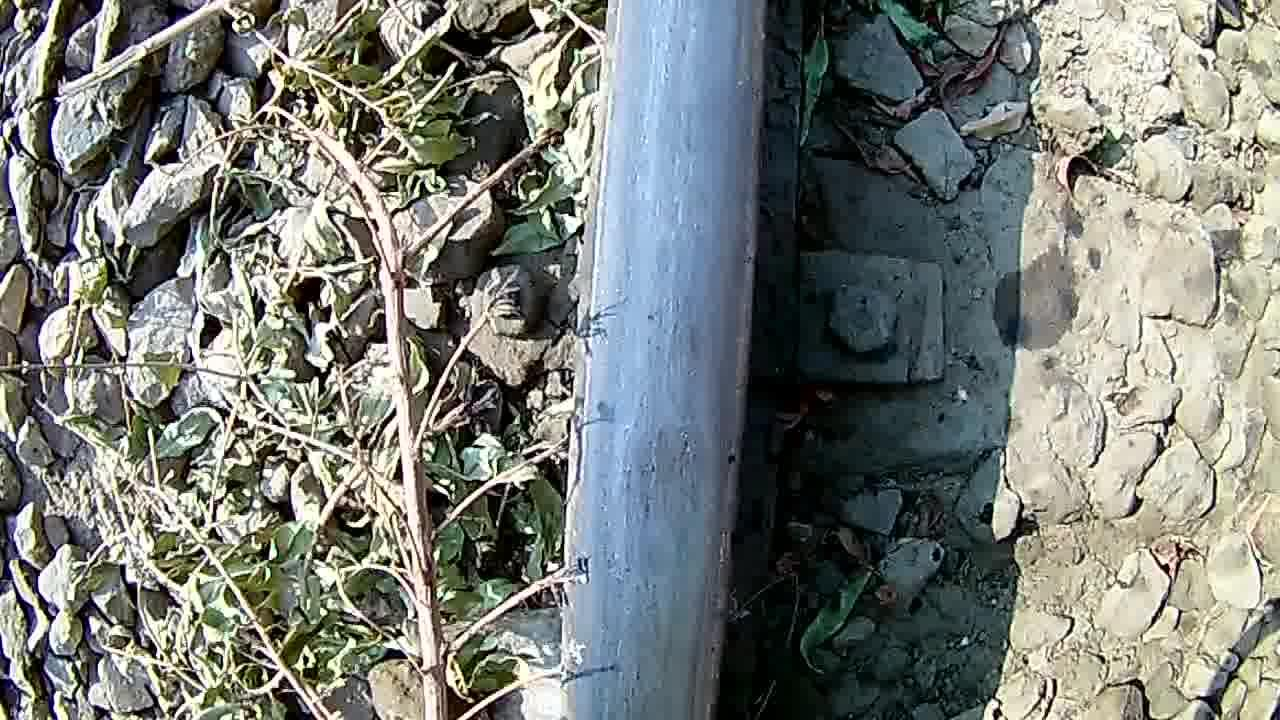bolt_missing: (589, 358, 740, 652)
